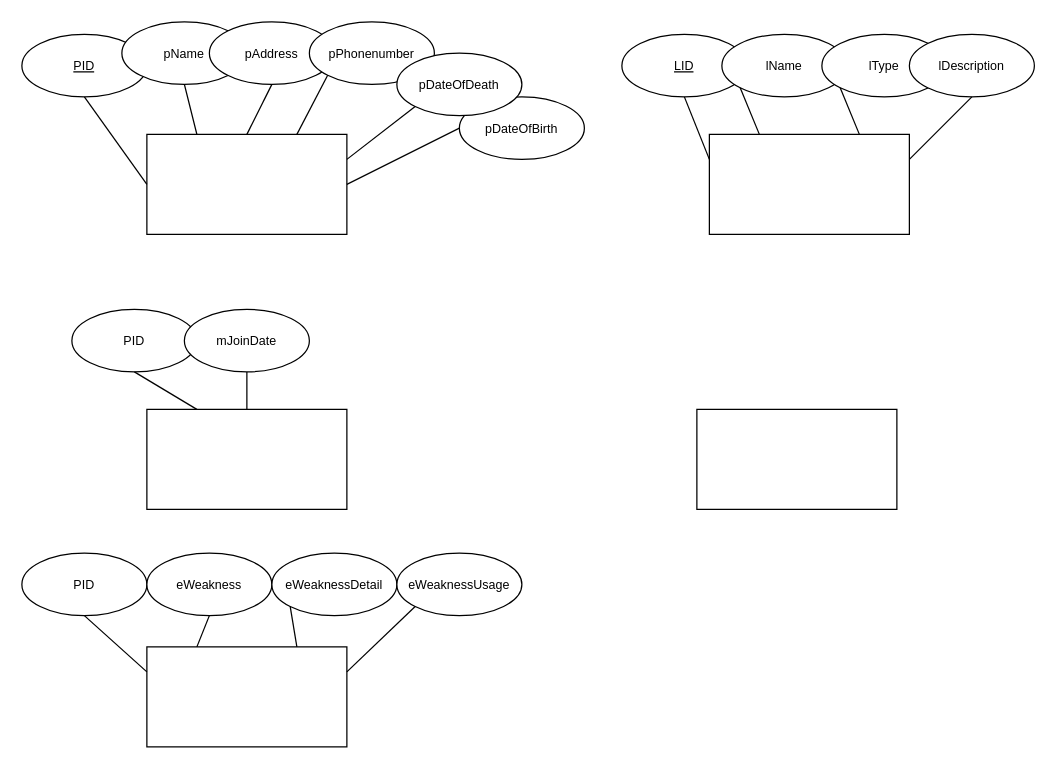
This 1056x769 diagram has some shape labels left out. Each missing label, with the centre of its shape:
Children: point 796,458
Enemies: point 246,696
Linkings: point 808,183
Members: point 246,458
People: point 246,183
